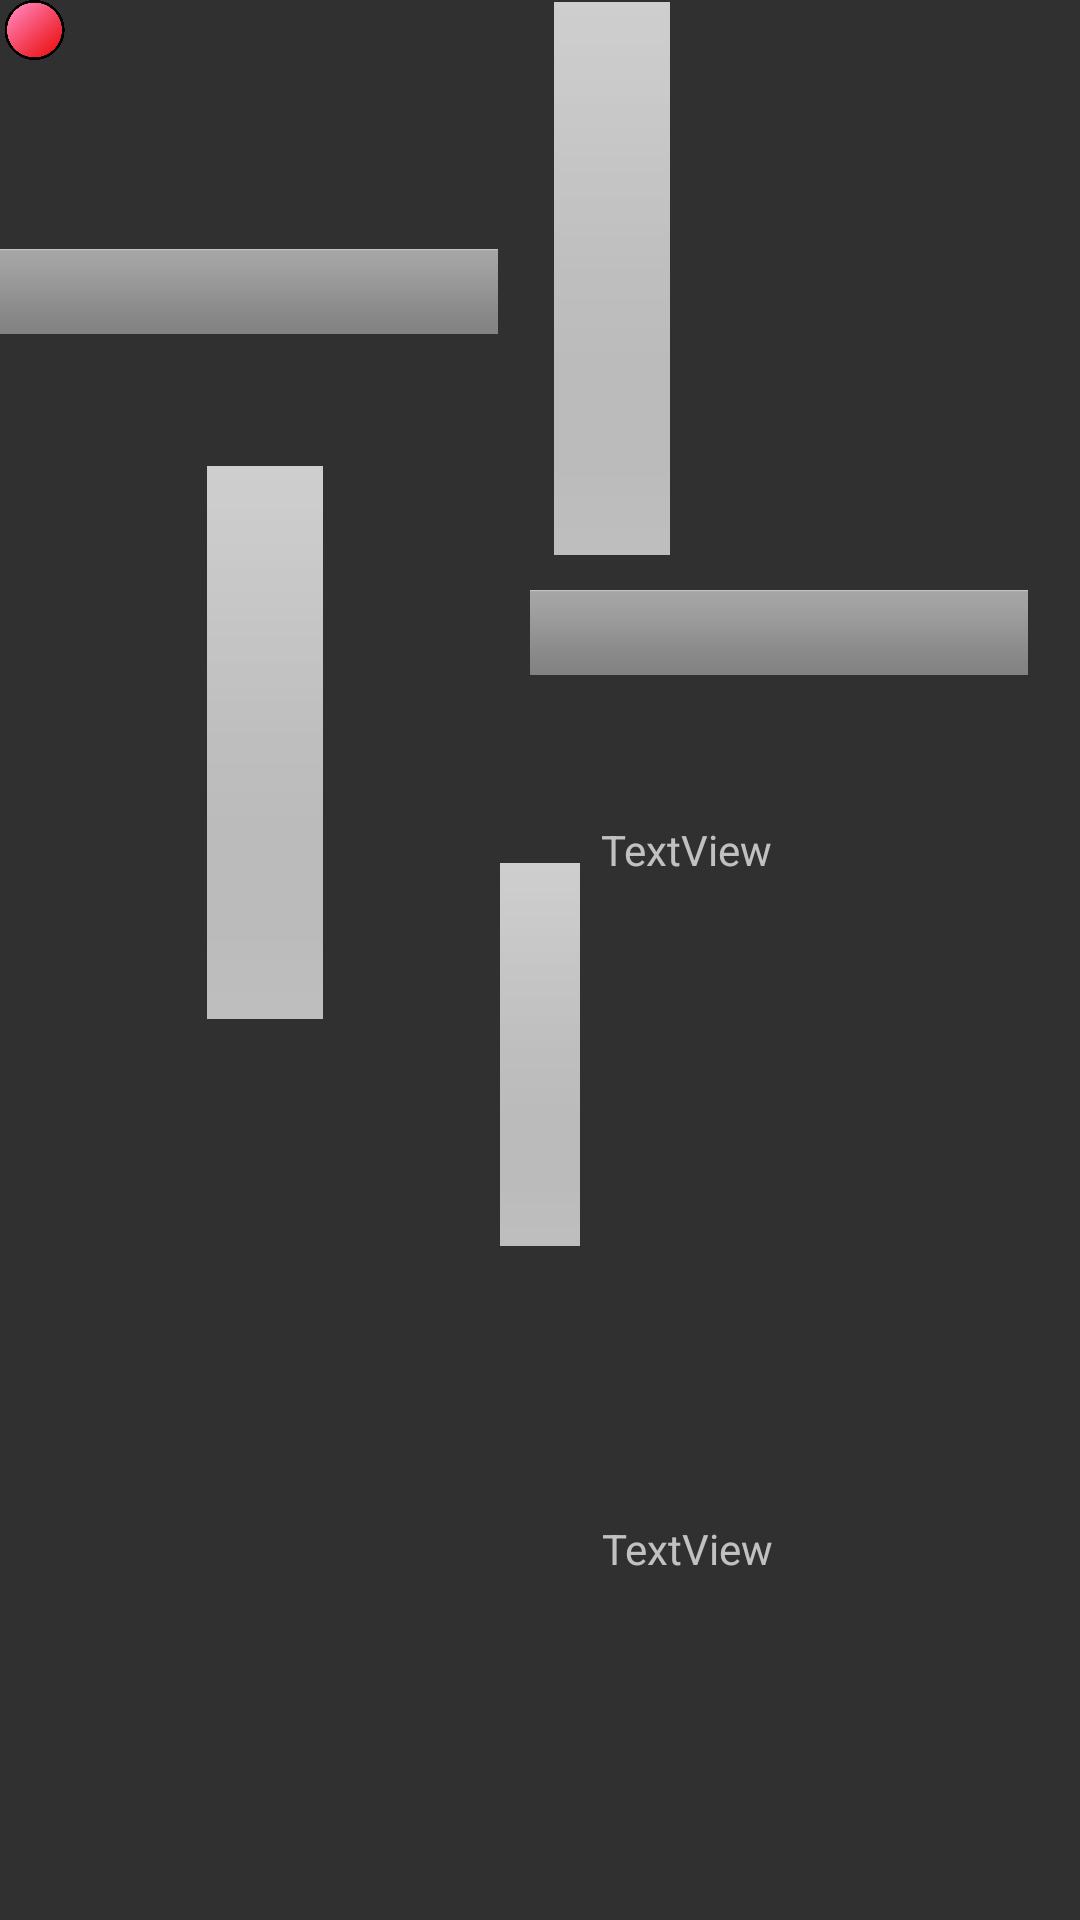

Locate icon controls on the screen. Image size 1080w x 1920h, boxes as (x1, y1, x2, y2).
ball: (5, 0, 65, 60)
